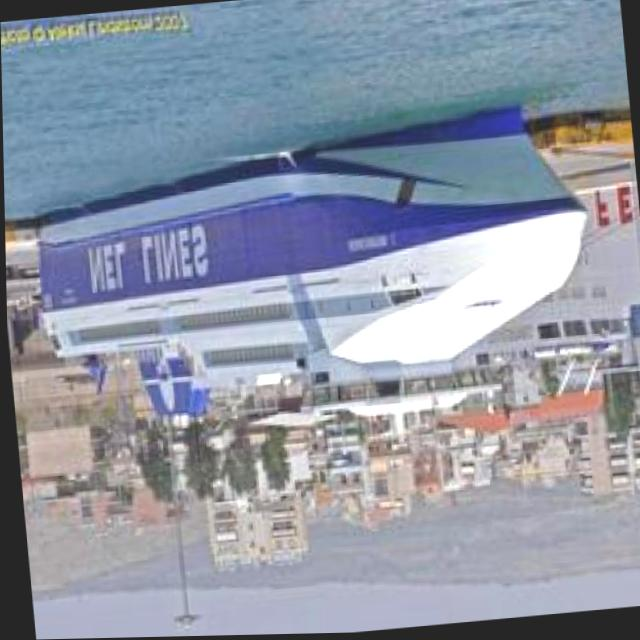ship2: (34, 106, 585, 427)
